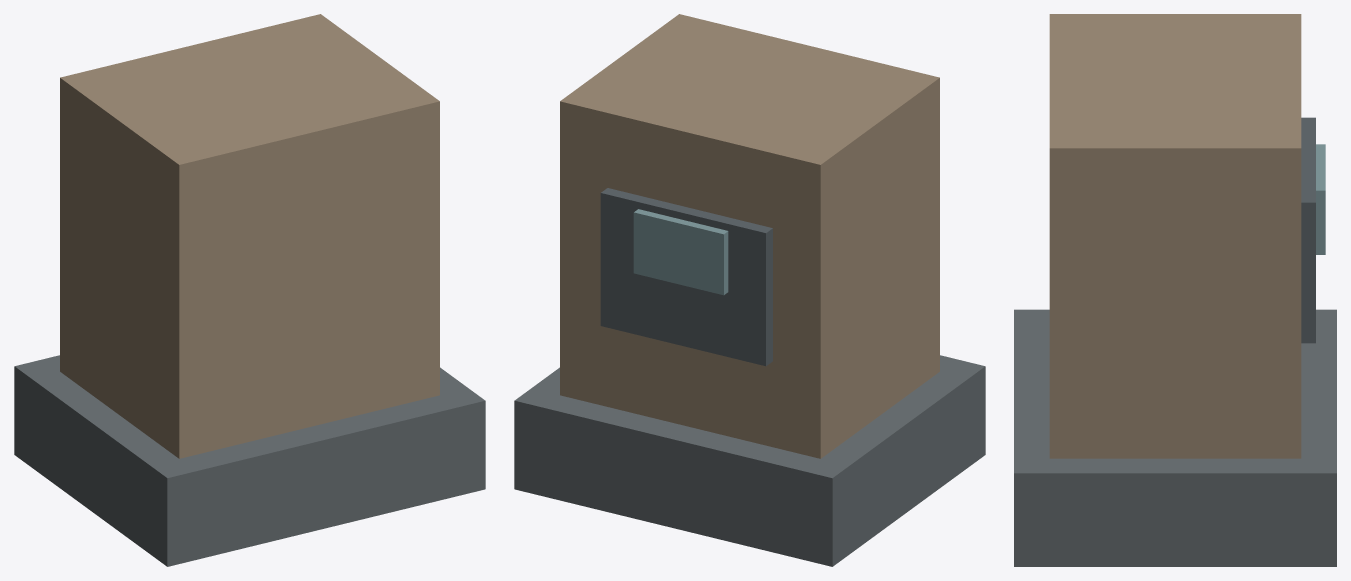
The model's file is iz3_production_forge_02.glb.
3 renders of one model, left to right at view 1: azimuth 30°, elevation 25°; view 2: azimuth 150°, elevation 25°; view 3: azimuth 270°, elevation 25°, orthographic. The views are drawn at different scales.
Visible parts, largest first — view 1: cabinet, base; view 2: cabinet, base, panel, display; view 3: cabinet, base, panel, display.
Boxes of the visible parts, <box> form: cabinet: <box>60,14,439,458</box>; base: <box>14,355,485,566</box>; cabinet: <box>560,14,939,458</box>; base: <box>514,355,985,566</box>; panel: <box>600,188,772,366</box>; display: <box>633,209,728,295</box>; cabinet: <box>1049,14,1301,458</box>; base: <box>1014,309,1336,566</box>; panel: <box>1301,117,1315,343</box>; display: <box>1316,144,1325,254</box>.
Bounding box in the file's own units: 1.2 × 1.38 × 1.
